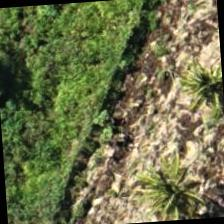Kelapa_Sawit: (128, 142, 224, 222)
